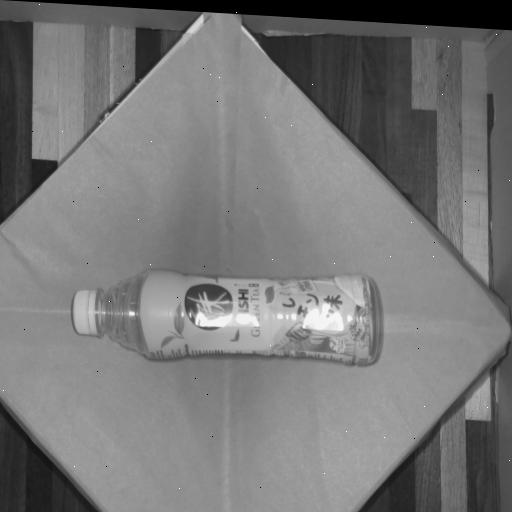bottle: (73, 270, 378, 364)
